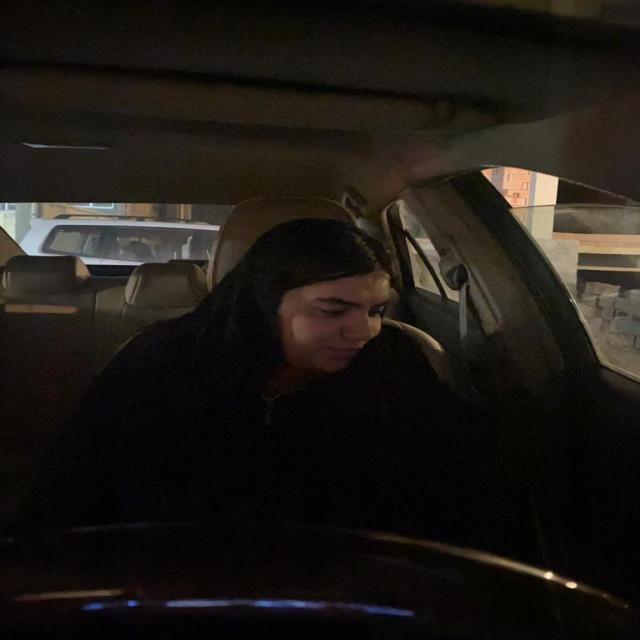person: (233, 212, 414, 382)
